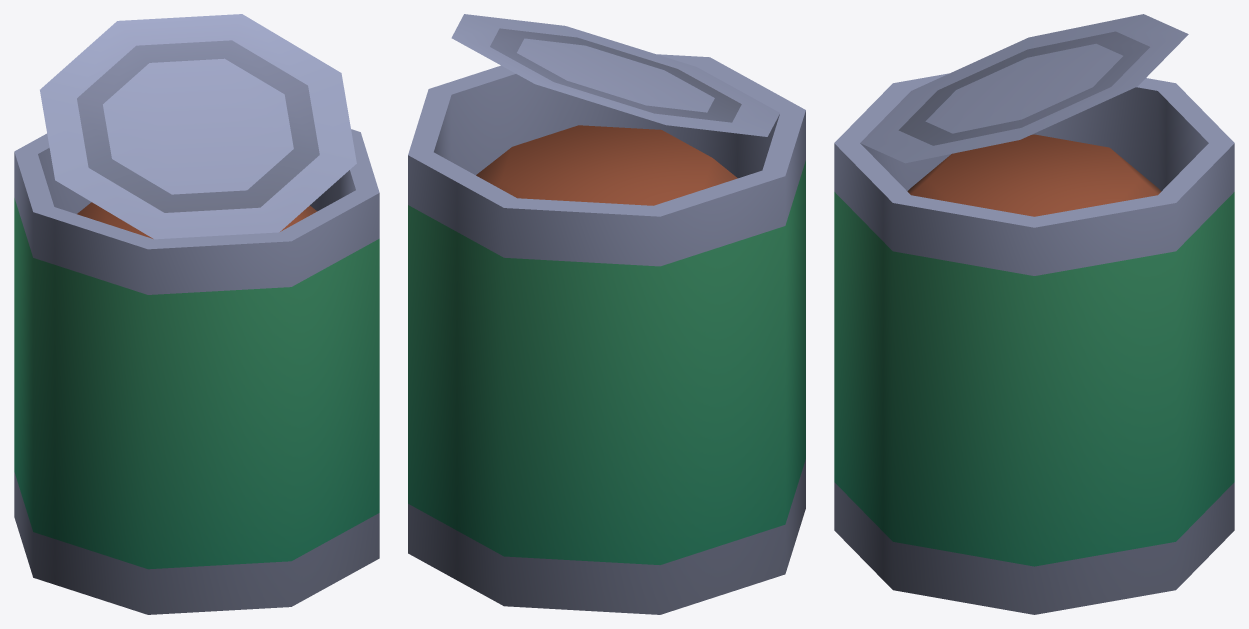
Rendered from can-open.glb.
3 views of the same model, side by side, from view 1: azimuth 30°, elevation 25°; view 2: azimuth 150°, elevation 25°; view 3: azimuth 270°, elevation 25° (orthographic). The views are drawn at different scales.
Visible parts, largest first — view 1: can-open; view 2: can-open; view 3: can-open.
Boxes of the visible parts, <box> form: can-open: <box>14,14,379,614</box>; can-open: <box>408,14,805,614</box>; can-open: <box>834,14,1234,614</box>.
Size of the model in its own units: 0.3 by 0.4071 by 0.3.
